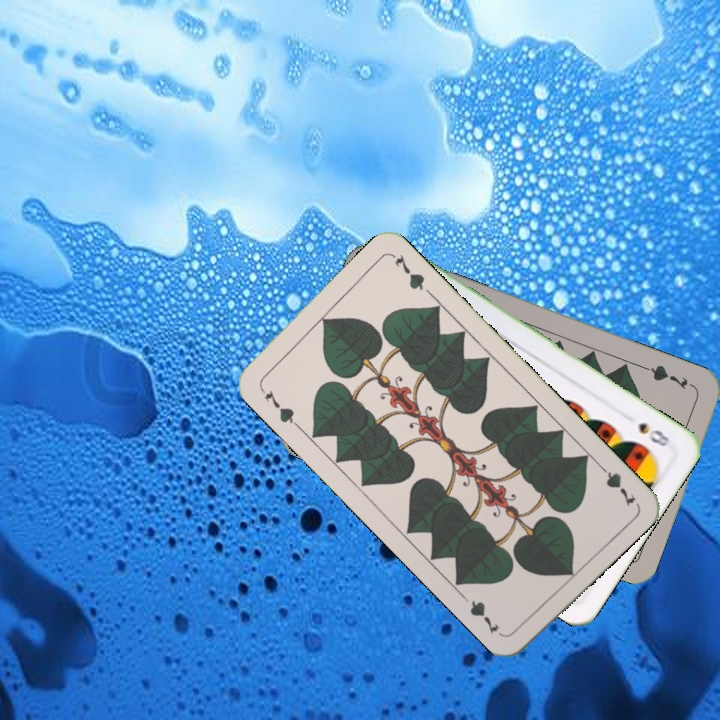G7: (593, 459, 639, 509), (260, 386, 302, 430), (641, 360, 690, 393)
S8: (634, 418, 673, 450)
